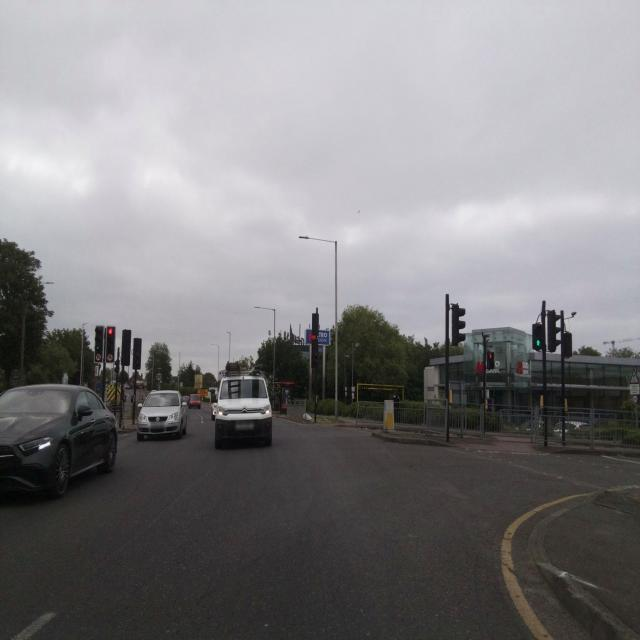car: (0, 381, 118, 502), (214, 366, 273, 450), (136, 388, 188, 441), (189, 392, 201, 409)
